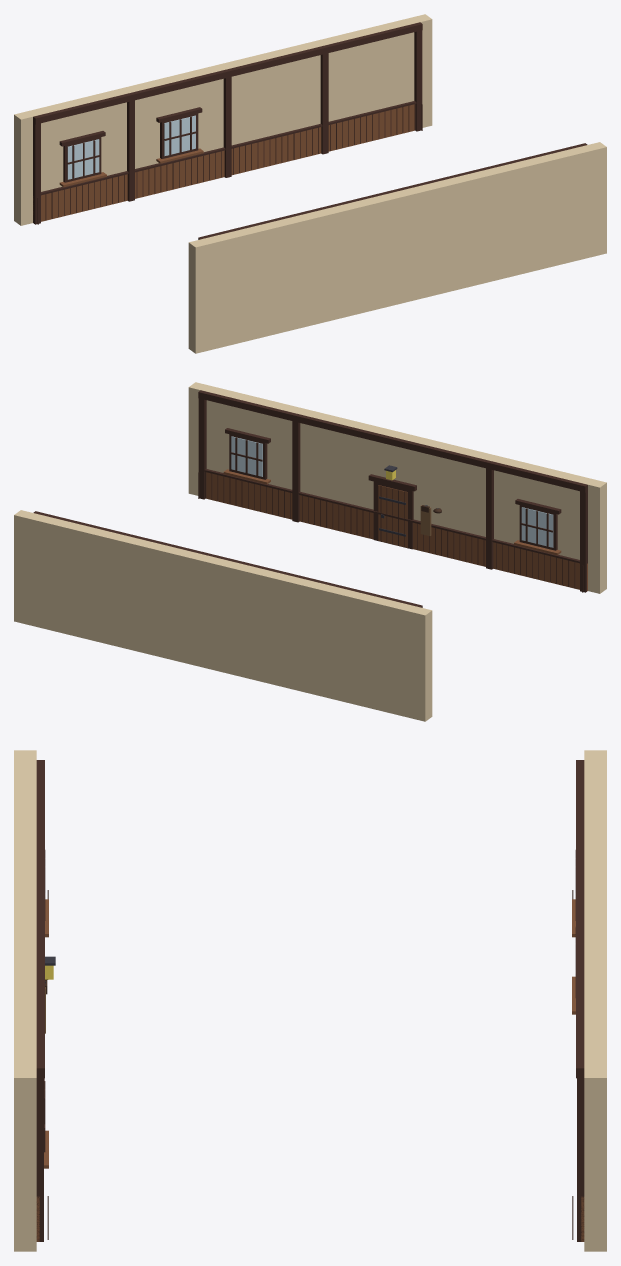
Rendered from inn_walls_ns.glb.
The picture shows the model from 3 angles, top to bottom: view 1: azimuth 30°, elevation 25°; view 2: azimuth 150°, elevation 25°; view 3: azimuth 270°, elevation 25°; orthographic projection. The views are drawn at different scales.
Parts seen in each view (by area): view 1: wall; view 2: wall; view 3: wall.
Part boxes in pixels (left/top/right/bottom): wall: left=14, top=14, right=606, bottom=353; wall: left=14, top=382, right=606, bottom=721; wall: left=14, top=750, right=606, bottom=1251.
Bounding box in the file's own units: 17 × 4.2 × 13.
